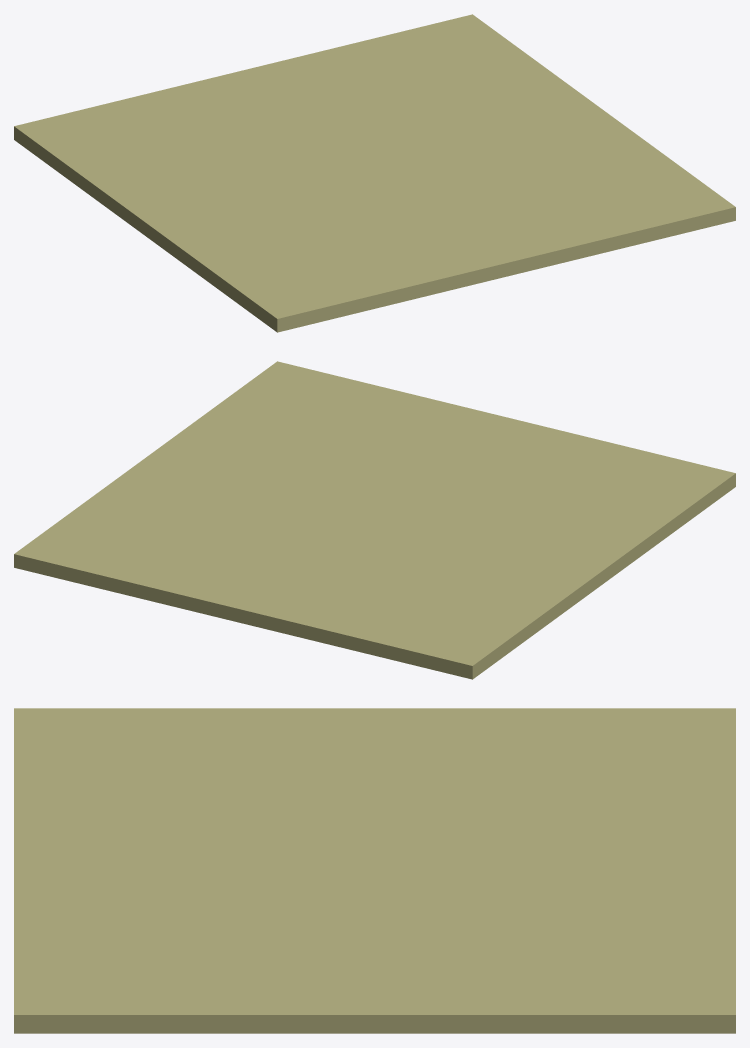
The model's file is fallingFloor.fbx.
3 renders of one model, top to bottom at view 1: azimuth 30°, elevation 25°; view 2: azimuth 150°, elevation 25°; view 3: azimuth 270°, elevation 25°, orthographic. The views are drawn at different scales.
Visible parts, largest first — view 1: windFloor5, windFloor7, windFloor9, windFloor2, windFloor4, windFloor1, windFloor11, windFloor6, windFloor48, windFloor14, windFloor13, windFloor47 (+24 smaller); view 2: windFloor4, windFloor6, windFloor8, windFloor12, windFloor10, windFloor48, windFloor14, windFloor5, windFloor13, windFloor3, windFloor47, windFloor35 (+24 smaller); view 3: windFloor13, windFloor23, windFloor1, windFloor33, windFloor6, windFloor43, windFloor3, windFloor14, windFloor5, windFloor47, windFloor35, windFloor7 (+24 smaller).
Boxes of the visible parts, box(x1,y1,x2,y2) form: windFloor5: box(300, 240, 430, 313); windFloor7: box(379, 227, 506, 295); windFloor9: box(462, 206, 582, 276); windFloor2: box(233, 272, 353, 332); windFloor4: box(14, 107, 151, 171); windFloor1: box(612, 175, 735, 239); windFloor11: box(538, 195, 659, 257); windFloor6: box(91, 89, 229, 146); windFloor48: box(189, 227, 299, 299); windFloor14: box(344, 58, 472, 117); windFloor13: box(434, 46, 559, 101); windFloor47: box(265, 208, 378, 271); windFloor4: box(396, 605, 516, 679); windFloor6: box(319, 588, 444, 660); windFloor8: box(243, 572, 358, 642); windFloor12: box(90, 546, 228, 604); windFloor10: box(167, 564, 296, 623); windFloor48: box(555, 488, 691, 550); windFloor14: box(124, 510, 263, 563); windFloor5: box(524, 436, 658, 488); windFloor13: box(58, 490, 192, 546); windFloor3: box(14, 522, 123, 586); windFloor47: box(476, 475, 627, 523); windFloor35: box(283, 463, 428, 508); windFloor13: box(489, 955, 638, 1033); windFloor23: box(375, 955, 495, 1033); windFloor1: box(14, 960, 134, 1033); windFloor33: box(241, 964, 374, 1033); windFloor6: box(584, 759, 735, 818); windFloor43: box(132, 960, 254, 1033); windFloor3: box(615, 964, 735, 1033); windFloor14: box(489, 900, 638, 964); windFloor5: box(14, 752, 165, 812); windFloor47: box(131, 752, 281, 816); windFloor35: box(254, 855, 413, 919); windFloor7: box(14, 810, 165, 863).
Bounding box in the file's own units: 77.53 × 2.2 × 77.11.
